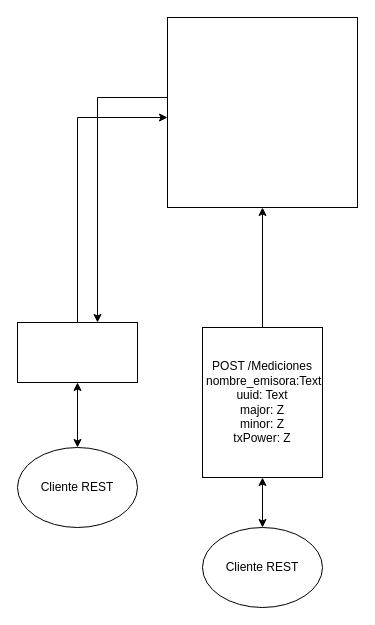
Image size: 375x625. Some labels were removed from this diagram. The shapes that lost their labels are listed below. From the top down, each one's box as (x1, y1, x2, y2) in pixels, then its label:
(166, 16, 358, 208): SERVIDOR REST
(16, 322, 138, 382): GET /Mediciones [Medicion]
